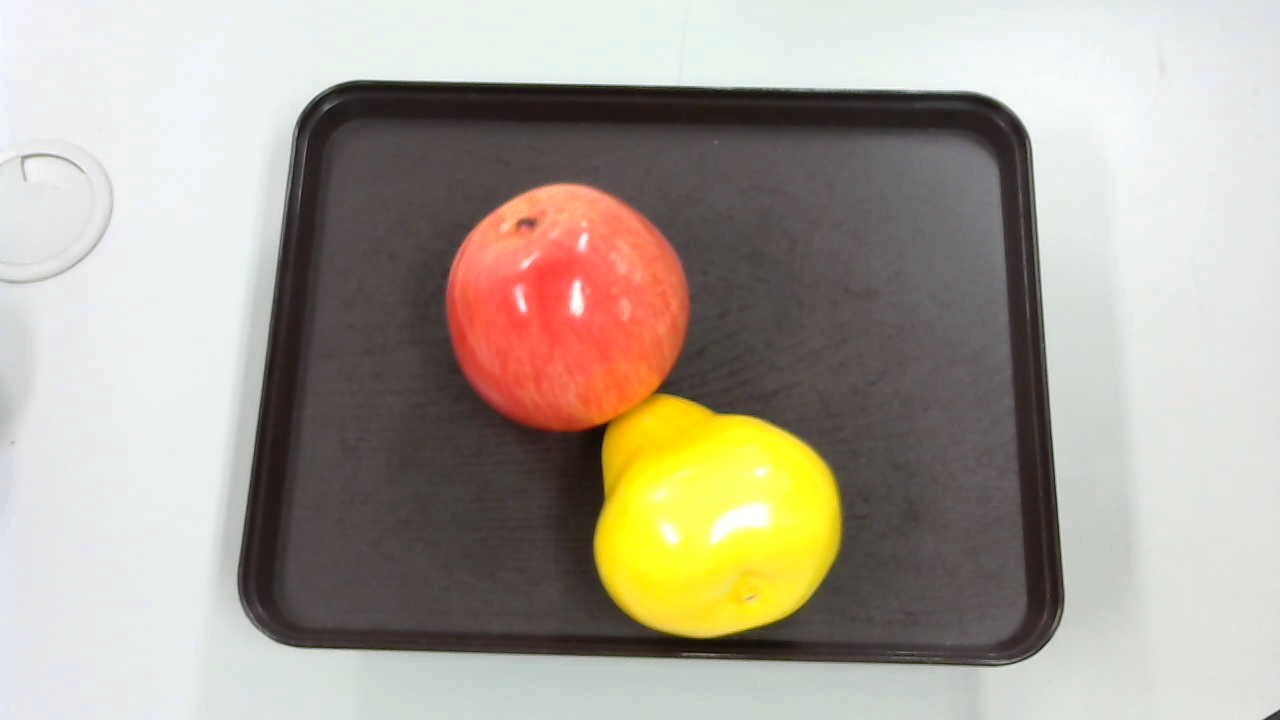red apple: (439, 181, 693, 442)
yellow pear: (592, 385, 841, 639)
